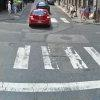Crosswalk: (9, 36, 99, 100)
